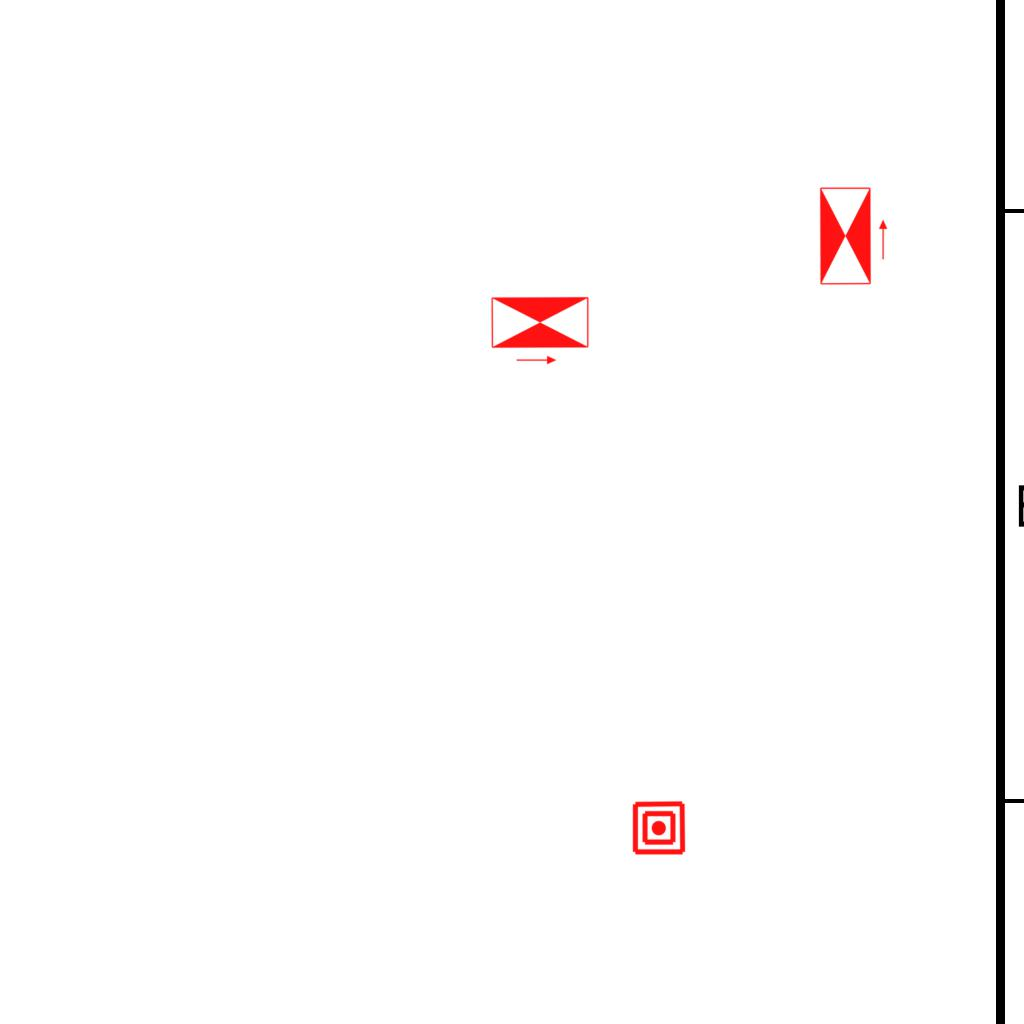Fluchtwegpiktogramm: (817, 184, 890, 288), (488, 294, 592, 367)
NAM-Nichtautomatischer_Melder: (631, 800, 687, 856)
